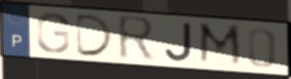0: (246, 27, 278, 70)
D: (74, 12, 116, 58)
G: (34, 11, 72, 55)
J: (163, 21, 194, 63)
M: (197, 20, 246, 70)
R: (115, 13, 158, 64)
